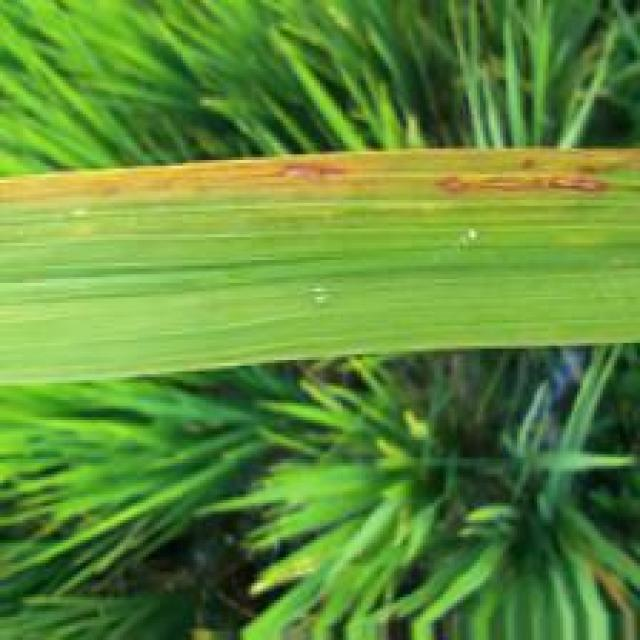Leaf_Blast: (0, 143, 640, 204)
